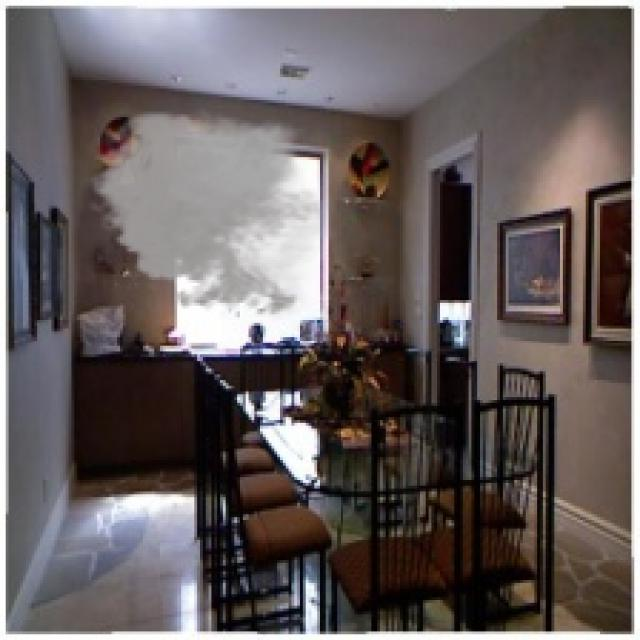smoke: (83, 103, 340, 323)
